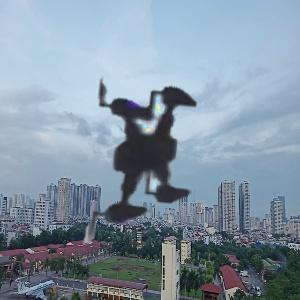drone: (2, 10, 288, 296)
